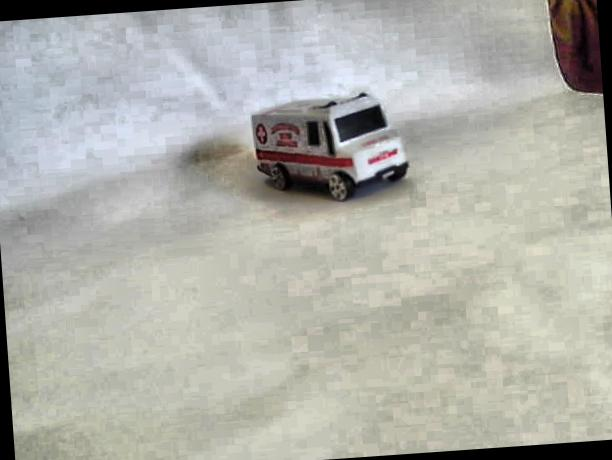ambulance: (249, 87, 411, 206)
